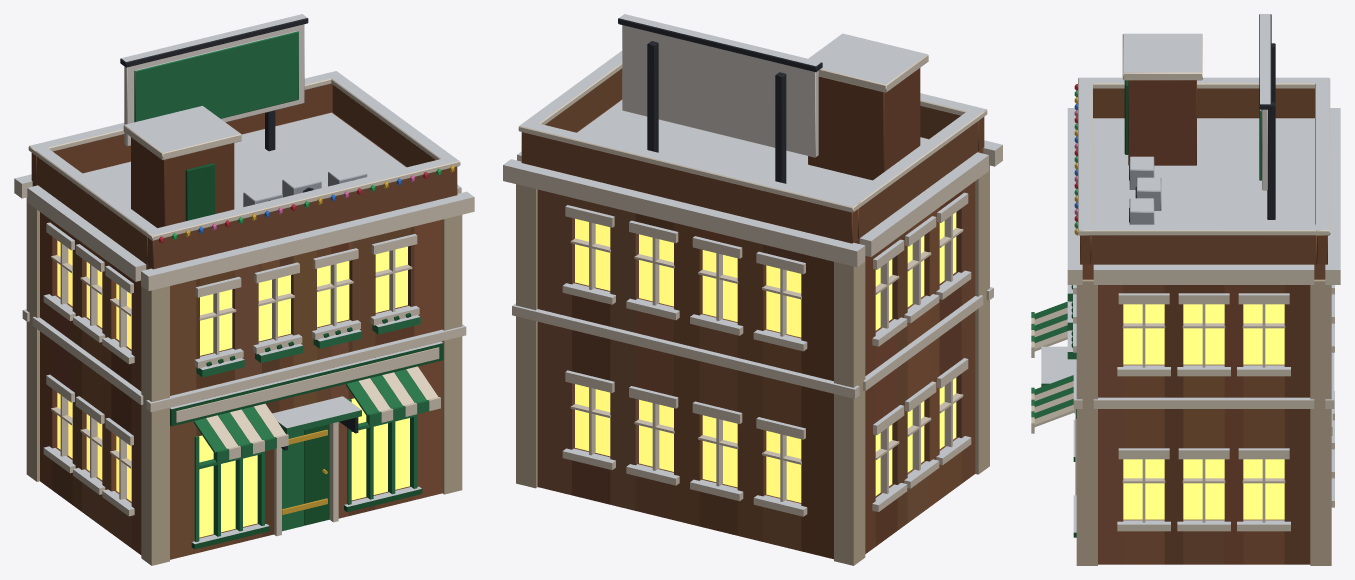
File: Shop_Cocoa.glb
The picture shows the model from 3 angles, left to right: view 1: azimuth 30°, elevation 25°; view 2: azimuth 150°, elevation 25°; view 3: azimuth 270°, elevation 25°; orthographic projection. The views are drawn at different scales.
Parts seen in each view (by area): view 1: Shop_Cocoa_Roof, Shop_Cocoa_Trim, Shop_Cocoa_Walls, Shop_Cocoa_Shopfront, Shop_Cocoa_Glow, Shop_Cocoa_Balconies, Shop_Cocoa_Lights; view 2: Shop_Cocoa_Walls, Shop_Cocoa_Roof, Shop_Cocoa_Trim, Shop_Cocoa_Glow; view 3: Shop_Cocoa_Roof, Shop_Cocoa_Walls, Shop_Cocoa_Trim, Shop_Cocoa_Glow, Shop_Cocoa_Shopfront, Shop_Cocoa_Lights, Shop_Cocoa_Balconies.
Boxes of the visible parts, x1=… form: Shop_Cocoa_Roof: x1=28, y1=14, x2=460, y2=269; Shop_Cocoa_Trim: x1=14, y1=174, x2=474, y2=565; Shop_Cocoa_Walls: x1=32, y1=112, x2=442, y2=559; Shop_Cocoa_Shopfront: x1=170, y1=341, x2=443, y2=536; Shop_Cocoa_Glow: x1=57, y1=240, x2=409, y2=537; Shop_Cocoa_Balconies: x1=196, y1=313, x2=420, y2=377; Shop_Cocoa_Lights: x1=159, y1=165, x2=454, y2=243; Shop_Cocoa_Walls: x1=537, y1=99, x2=983, y2=559; Shop_Cocoa_Roof: x1=518, y1=14, x2=987, y2=243; Shop_Cocoa_Trim: x1=503, y1=140, x2=1002, y2=565; Shop_Cocoa_Glow: x1=575, y1=212, x2=956, y2=502; Shop_Cocoa_Roof: x1=1078, y1=14, x2=1330, y2=264; Shop_Cocoa_Walls: x1=1082, y1=118, x2=1325, y2=564; Shop_Cocoa_Trim: x1=1067, y1=108, x2=1340, y2=565; Shop_Cocoa_Glow: x1=1123, y1=304, x2=1284, y2=519; Shop_Cocoa_Shopfront: x1=1031, y1=301, x2=1076, y2=495; Shop_Cocoa_Lights: x1=1074, y1=84, x2=1077, y2=235; Shop_Cocoa_Balconies: x1=1067, y1=285, x2=1076, y2=359.
Bounding box in the file's own units: 27.8 × 34.45 × 22.42.
